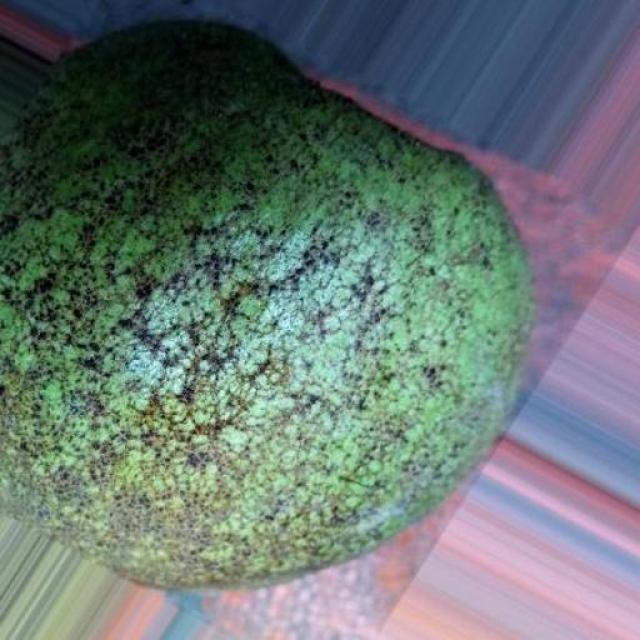Scab: (0, 24, 531, 586)
